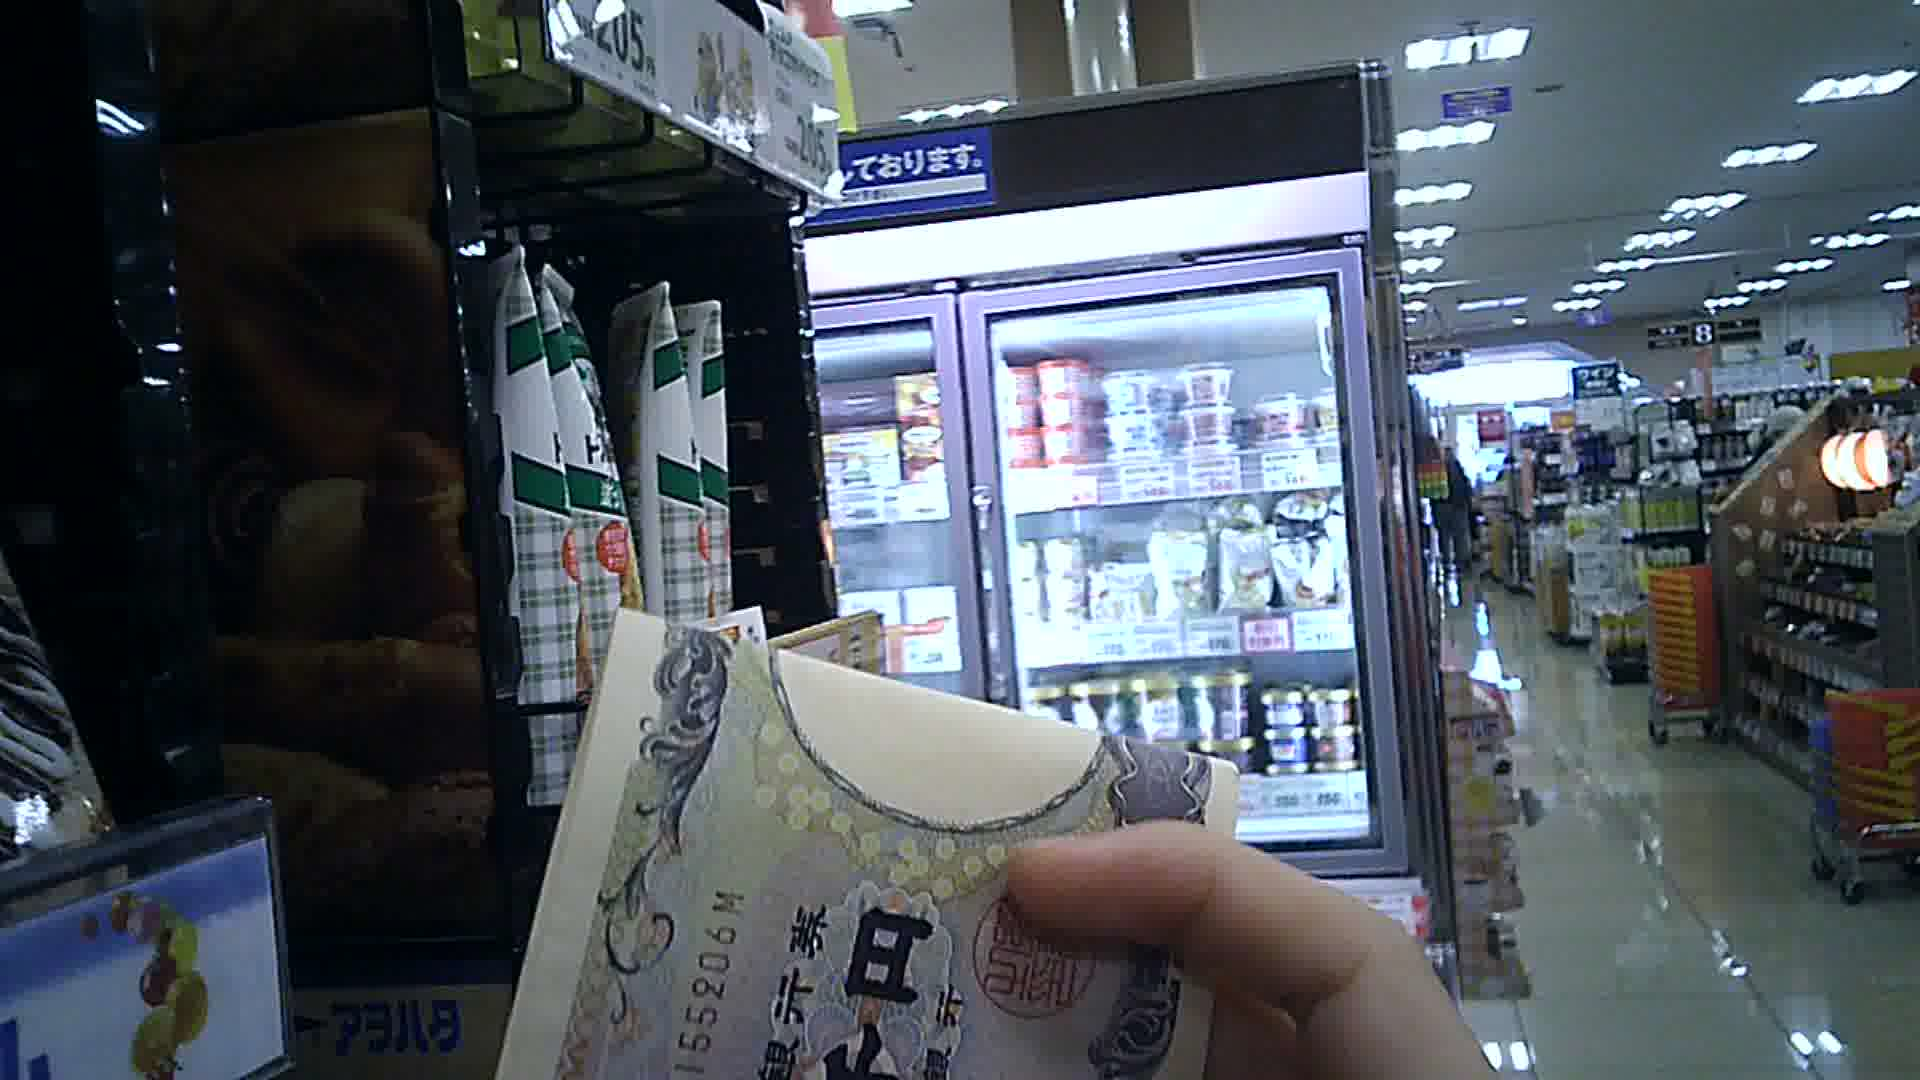5,000 Yen: (517, 603, 1244, 1077)
